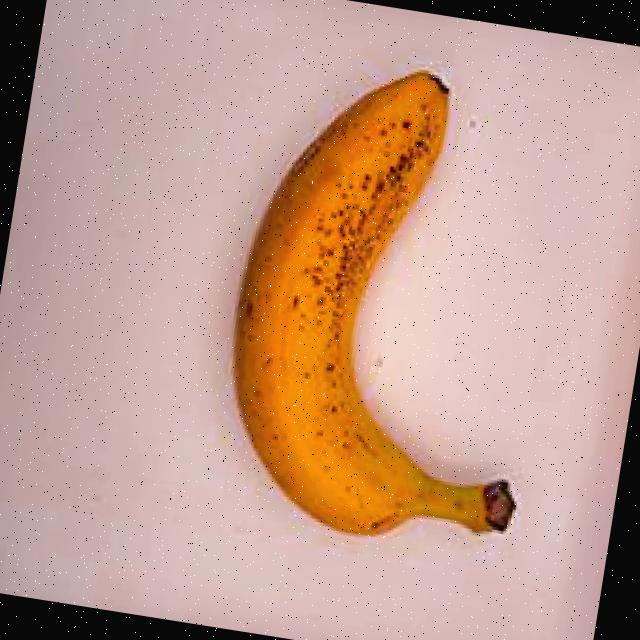Overripe: (190, 28, 608, 586)
